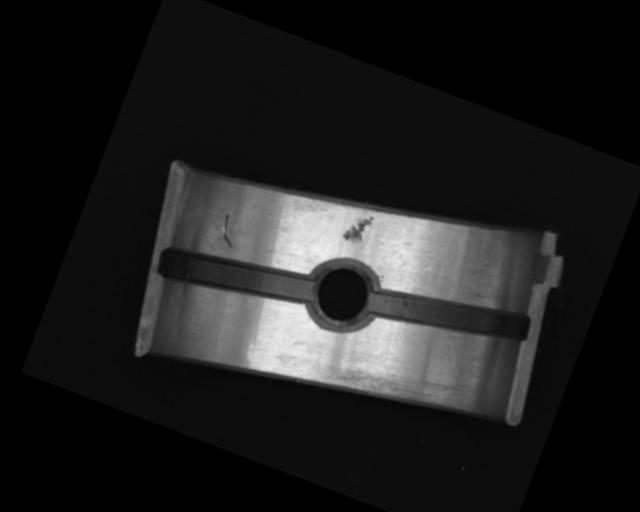bruise: (341, 209, 375, 248)
gap: (366, 263, 533, 367), (155, 226, 318, 328)
hole: (299, 251, 386, 339)
nick: (214, 212, 242, 248)
scratch: (319, 341, 459, 428)
